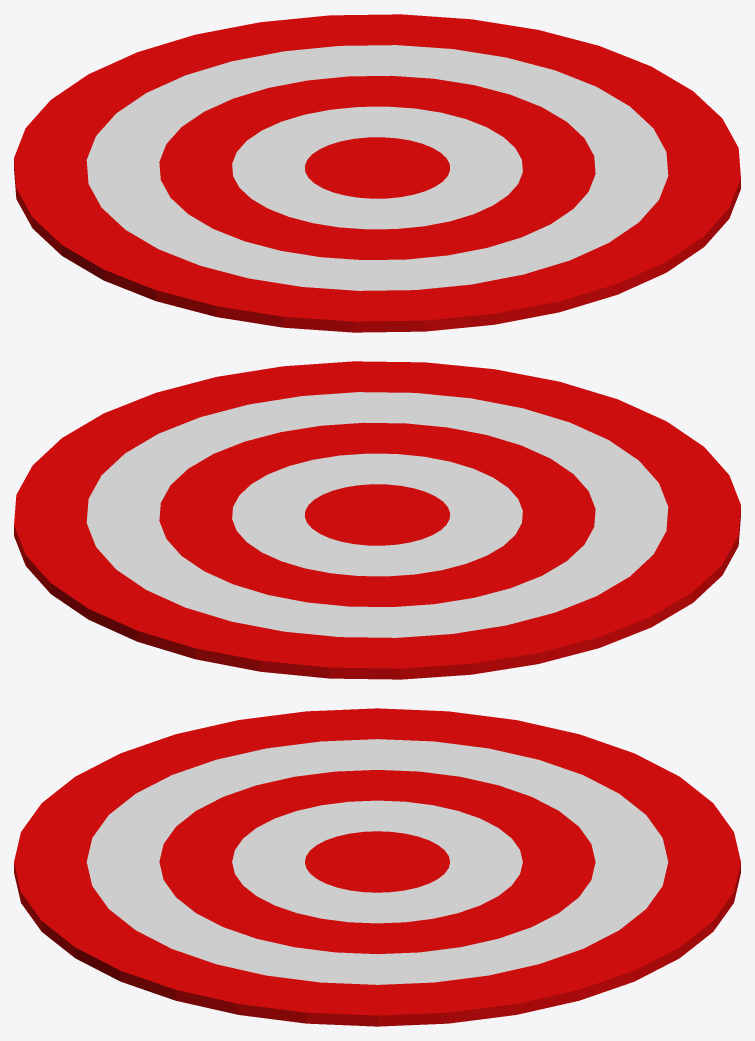
The model's file is target.fbx.
The picture shows the model from 3 angles, top to bottom: view 1: azimuth 30°, elevation 25°; view 2: azimuth 150°, elevation 25°; view 3: azimuth 270°, elevation 25°; orthographic projection.
Parts seen in each view (by area): view 1: Cylinder, Cylinder.003, Cylinder.004, Cylinder.007, Cylinder.008; view 2: Cylinder, Cylinder.003, Cylinder.004, Cylinder.007, Cylinder.008; view 3: Cylinder, Cylinder.003, Cylinder.004, Cylinder.007, Cylinder.008.
Boxes of the visible parts, left/top/right/bottom form: Cylinder: left=14, top=14, right=740, bottom=332; Cylinder.003: left=86, top=45, right=668, bottom=290; Cylinder.004: left=159, top=75, right=595, bottom=259; Cylinder.007: left=232, top=106, right=522, bottom=229; Cylinder.008: left=305, top=137, right=449, bottom=198; Cylinder: left=14, top=361, right=740, bottom=679; Cylinder.003: left=86, top=392, right=668, bottom=637; Cylinder.004: left=159, top=422, right=595, bottom=606; Cylinder.007: left=232, top=453, right=522, bottom=576; Cylinder.008: left=305, top=484, right=449, bottom=545; Cylinder: left=14, top=708, right=740, bottom=1026; Cylinder.003: left=86, top=739, right=668, bottom=984; Cylinder.004: left=159, top=770, right=595, bottom=954; Cylinder.007: left=232, top=800, right=522, bottom=923; Cylinder.008: left=305, top=831, right=449, bottom=892.
Size of the model in its own units: 600 by 10 by 600.
